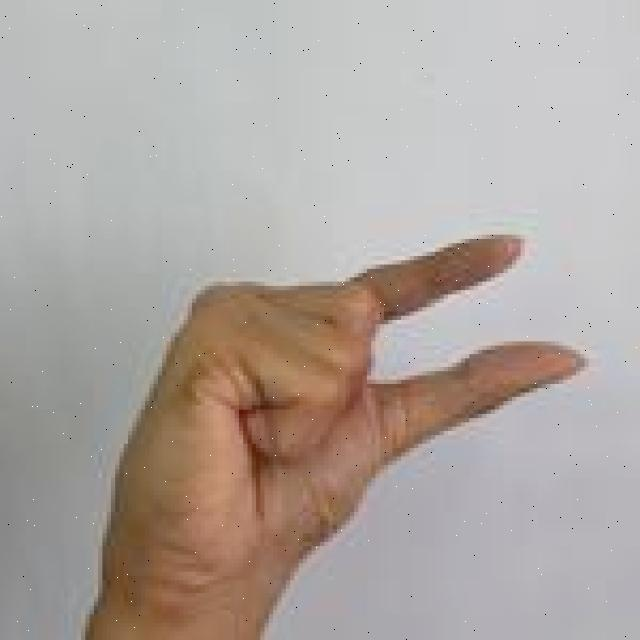G: (79, 230, 594, 640)
